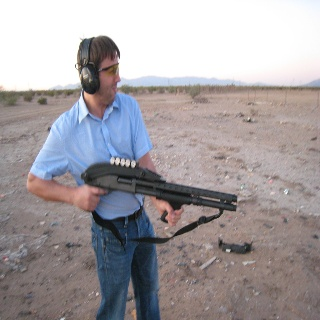shotgun: (79, 155, 238, 218)
